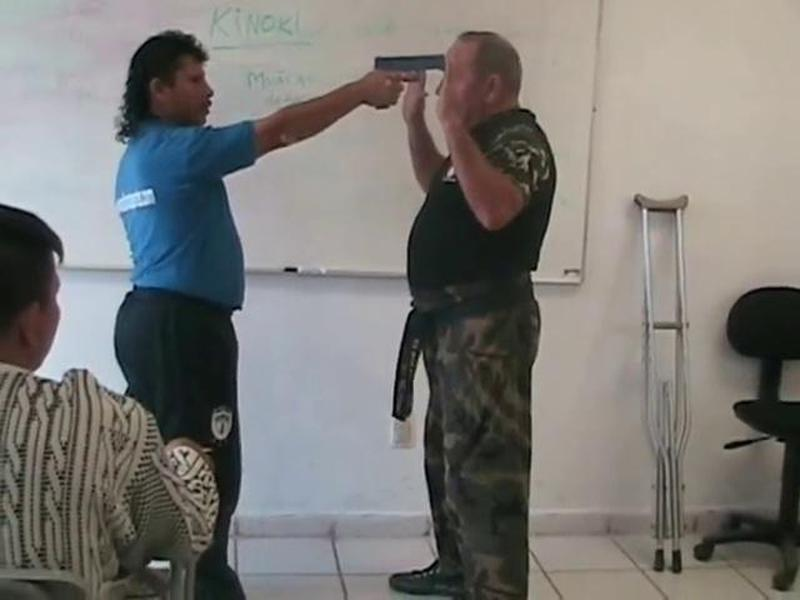Pistola: (360, 34, 448, 129)
